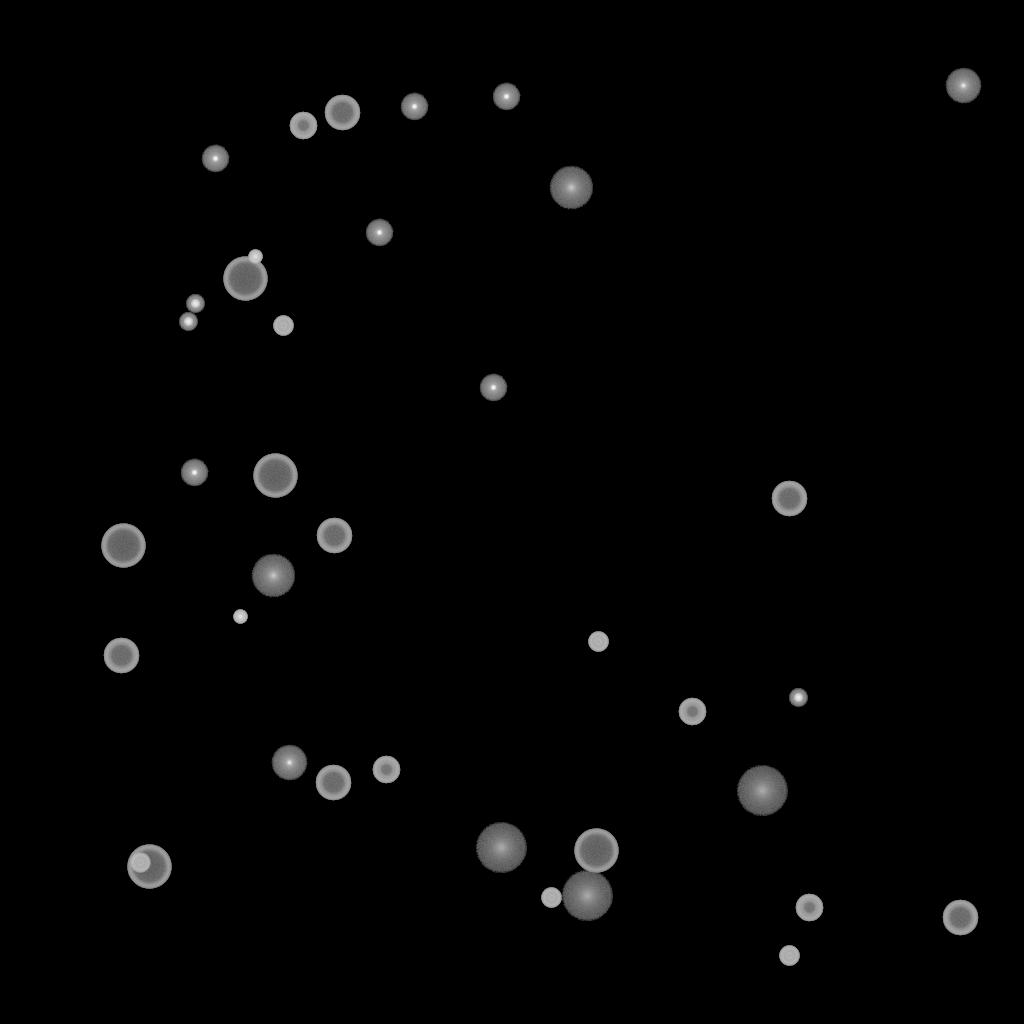depth:-10: (479, 374, 507, 402), (492, 83, 520, 111), (180, 459, 208, 487), (201, 145, 229, 173), (365, 219, 393, 247), (400, 93, 428, 121)
depth:-20: (179, 313, 197, 331), (789, 689, 807, 707), (186, 295, 204, 313)
depth:-30: (233, 610, 247, 624), (248, 250, 262, 264)
depth:-40: (779, 946, 799, 966), (273, 316, 293, 336), (130, 853, 150, 873), (588, 632, 608, 652), (541, 888, 561, 908)
depth:-50: (289, 112, 317, 140), (795, 894, 823, 922), (678, 698, 706, 726), (372, 756, 400, 784)
depth:-60: (315, 765, 351, 801), (316, 518, 352, 554), (324, 95, 360, 131), (942, 900, 978, 936), (103, 638, 139, 674), (771, 481, 807, 517)
depth:-70: (253, 454, 297, 498), (223, 257, 267, 301), (574, 829, 618, 873), (127, 845, 171, 889), (101, 524, 145, 568)
depth:0: (945, 68, 981, 104), (271, 745, 307, 781)
depth:10: (549, 166, 593, 210), (251, 554, 295, 598)
depth:20: (561, 871, 613, 921), (736, 766, 788, 816), (475, 823, 527, 873)
